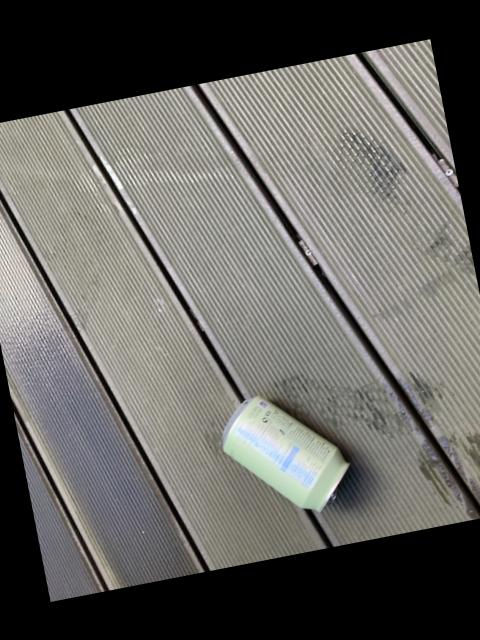metal: (223, 395, 347, 509)
